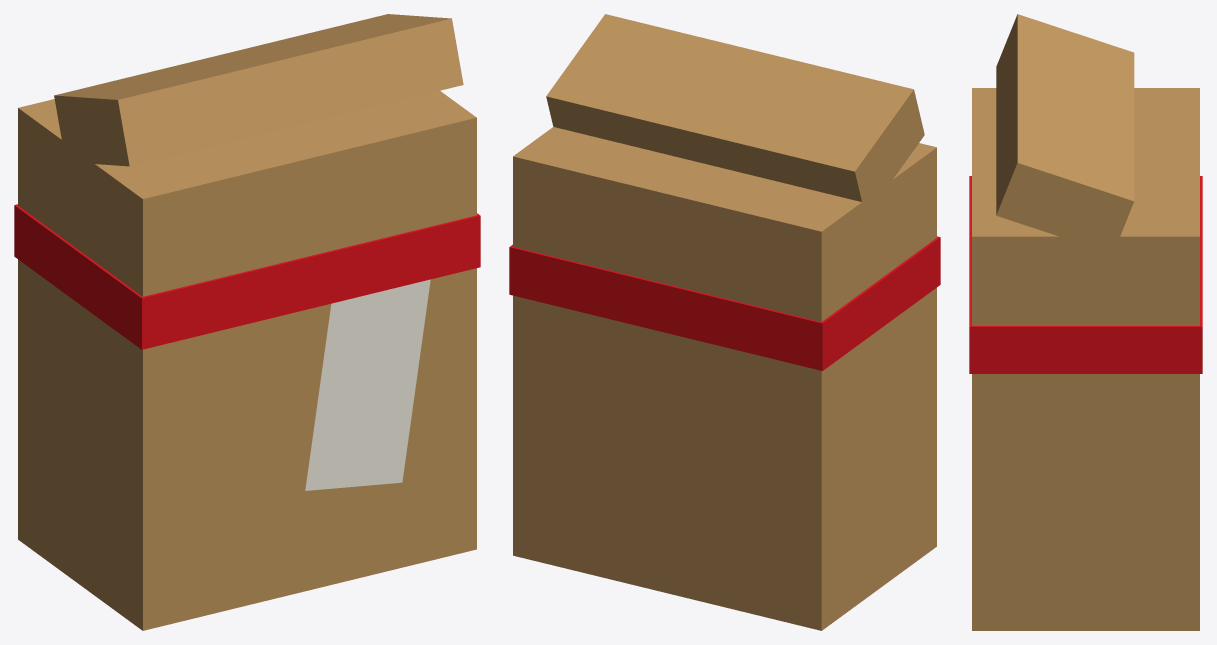
The model's file is parcel.glb.
3 renders of one model, left to right at view 1: azimuth 30°, elevation 25°; view 2: azimuth 150°, elevation 25°; view 3: azimuth 270°, elevation 25°, orthographic. The views are drawn at different scales.
Parts seen in each view (by area): view 1: parcel; view 2: parcel; view 3: parcel.
Part boxes in pixels (<box>): parcel: <box>14,14,480,630</box>; parcel: <box>509,14,940,630</box>; parcel: <box>969,14,1202,630</box>.
Bounding box in the file's own units: 0.345 × 0.4988 × 0.225.
